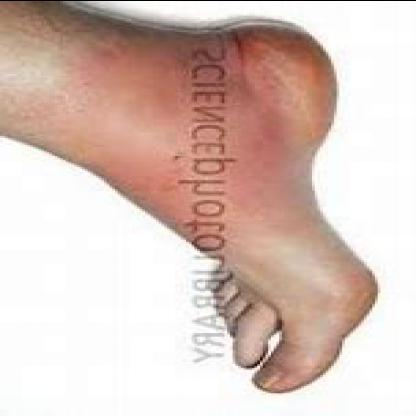Wasp: (96, 30, 282, 252)
